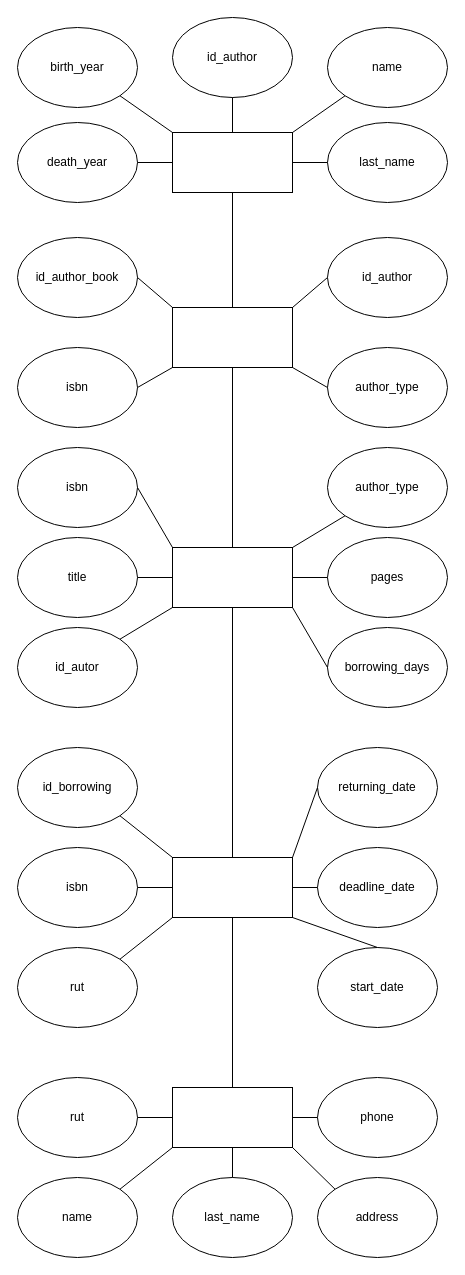
Image size: 465x1275. Some labels were removed from this diagram. Here are the shapes that lost their labels. From the top down, the centre of each, then its label:
At [232,162]: "author".
At [232,337]: "author_book".
At [232,577]: "book".
At [232,887]: "borrowing".
At [232,1117]: "associate".
